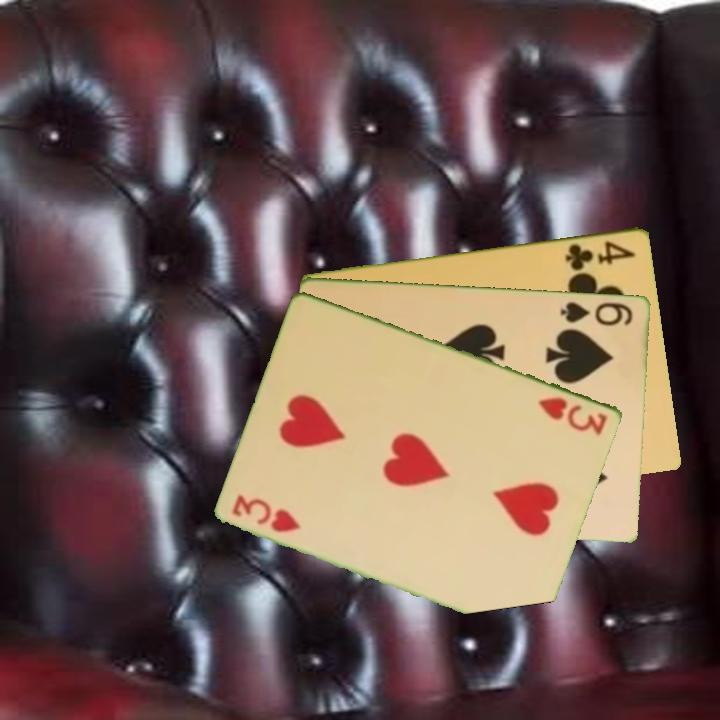3h: (535, 393, 611, 438), (229, 491, 305, 535)
4c: (562, 236, 639, 273)
6s: (557, 298, 636, 328)
